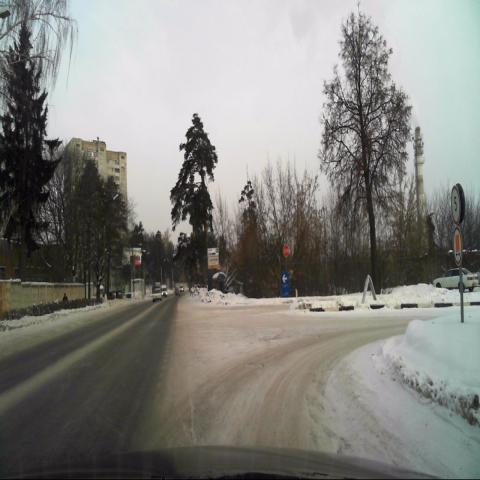3_32: (452, 230, 462, 267)
